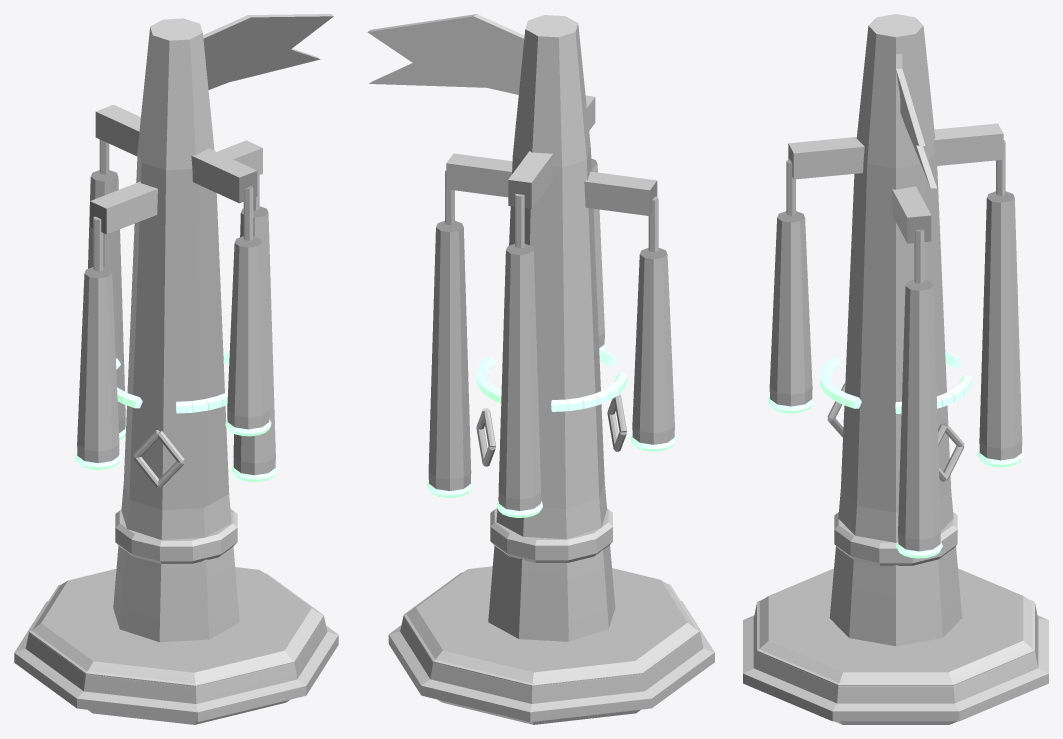
Rendered from gale.glb.
3 renders of one model, left to right at view 1: azimuth 30°, elevation 25°; view 2: azimuth 150°, elevation 25°; view 3: azimuth 270°, elevation 25°, orthographic.
Visible parts, largest first — view 1: gale.001; view 2: gale.001; view 3: gale.001.
Boxes of the visible parts, left/top/right/bottom form: gale.001: left=14, top=14, right=338, bottom=724; gale.001: left=367, top=14, right=714, bottom=724; gale.001: left=743, top=14, right=1048, bottom=724.
Bounding box in the file's own units: 1.21 × 2.45 × 1.05.
